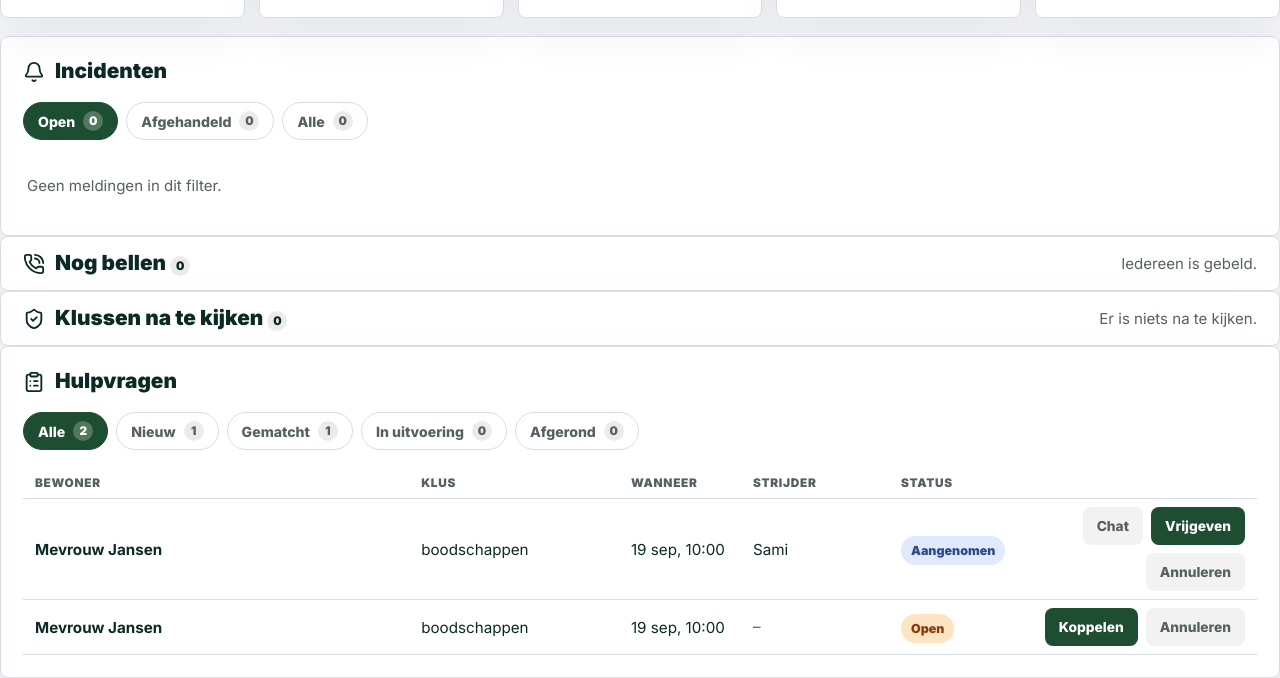
it: B11 meldkamer: nakijken en chat › leest de chat van een klus met strijder (alleen lezen)
(page scrolled)
Click the button with aria-label "Chat lezen".
click(1113, 526)  # box x1=1083 y1=507 x2=1143 y2=545
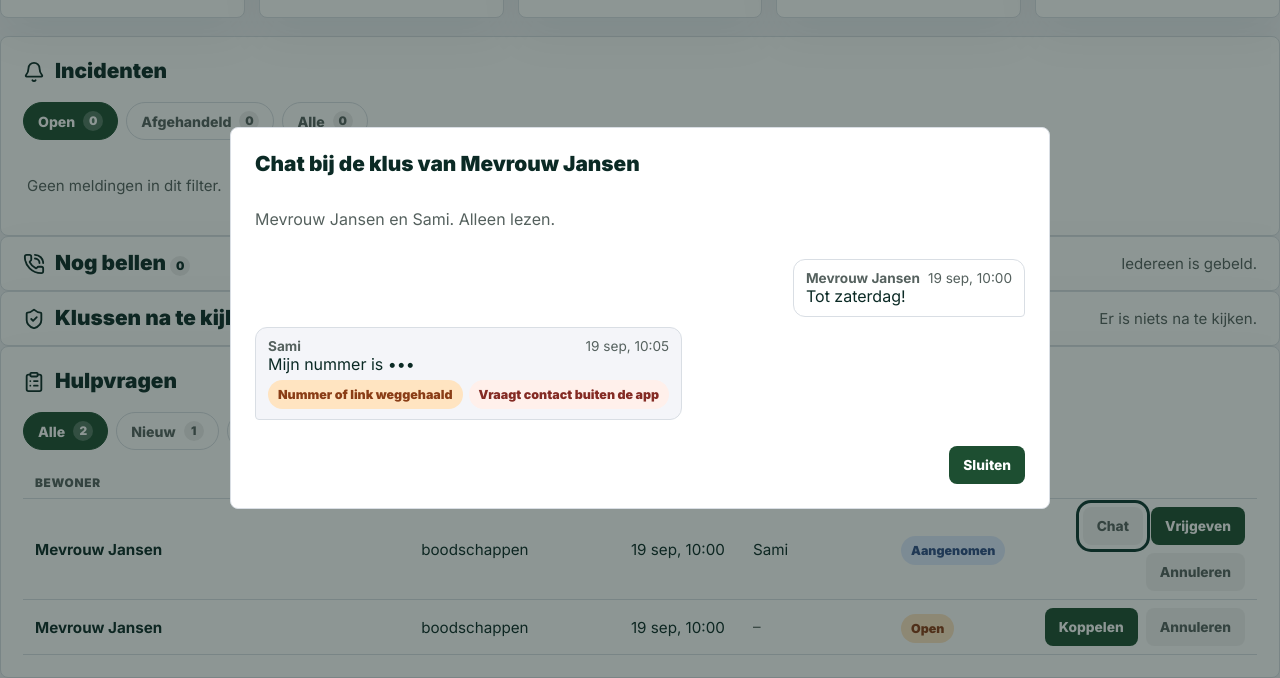
Expected: the text "Tot zaterdag!" is shown, x1=806 y1=286 x2=906 y2=306
Expected: the text "Nummer of link weggehaald" is shown, x1=268 y1=380 x2=462 y2=409
Expected: the text "Vraagt contact buiten de app" is shown, x1=468 y1=380 x2=669 y2=409
Click the button "Sluiten".
click(987, 465)  # box x1=949 y1=446 x2=1025 y2=484
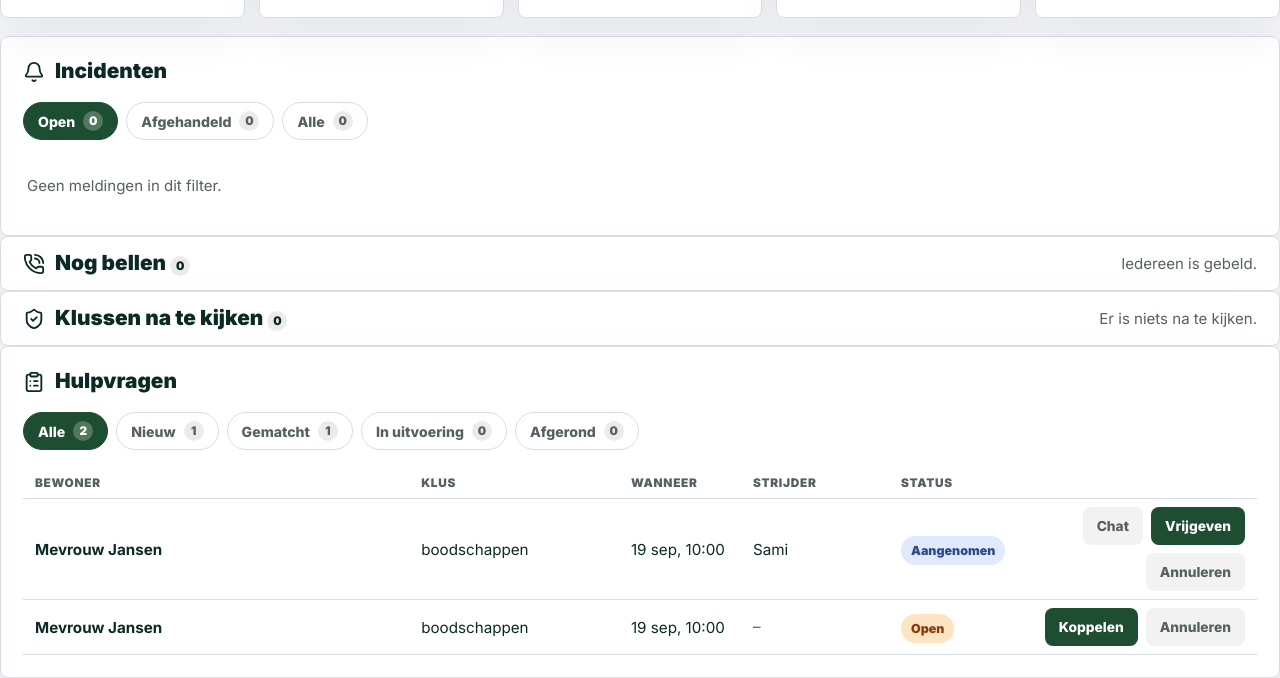
Expected: the dialog is gone
